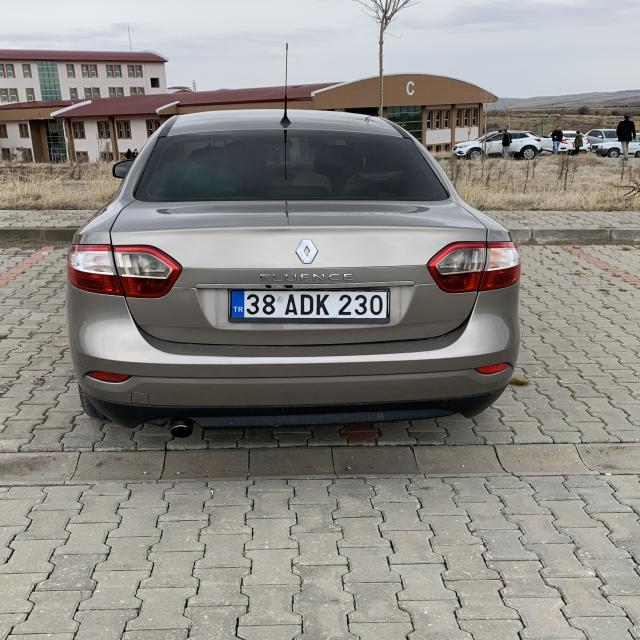license_plate: (230, 289, 390, 319)
